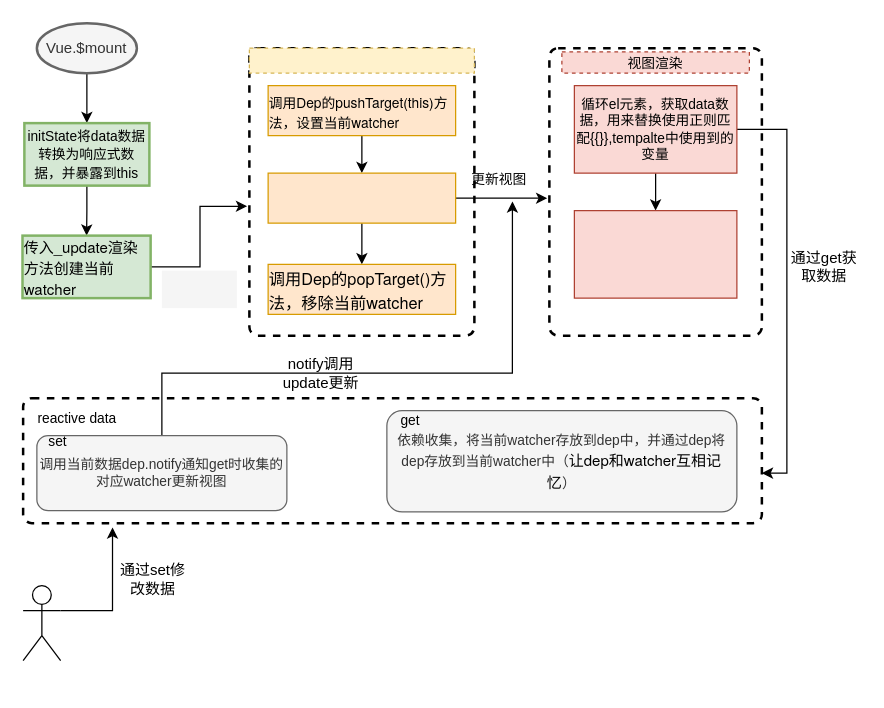
Some shapes in this 884 by 708 pixel diagram are drawn without their labels. Here are the shapes that lost their labels. From the top down, the centre of each, then its label:
At point 361,60: "new Watcher(update)".
At point 361,197: "调用update渲染视图".
At point 655,253: "然后替换el".
At point 198,289: "创建渲染watcher".
At point 41,622: "Actor".
